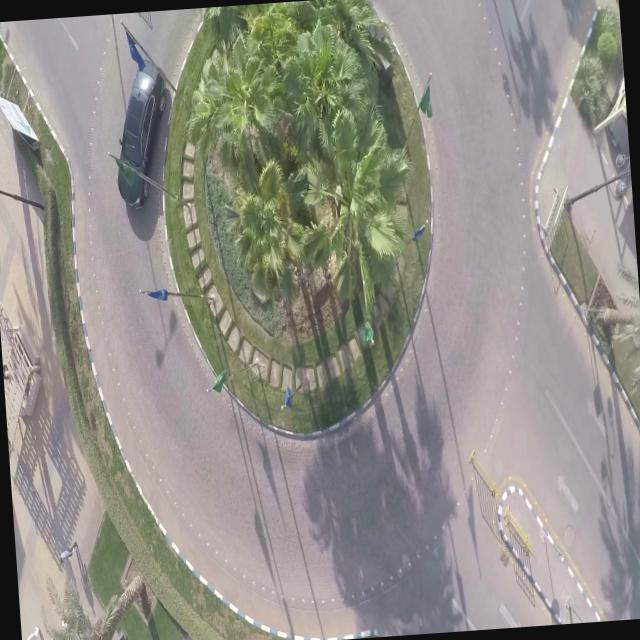car: (104, 55, 176, 212)
